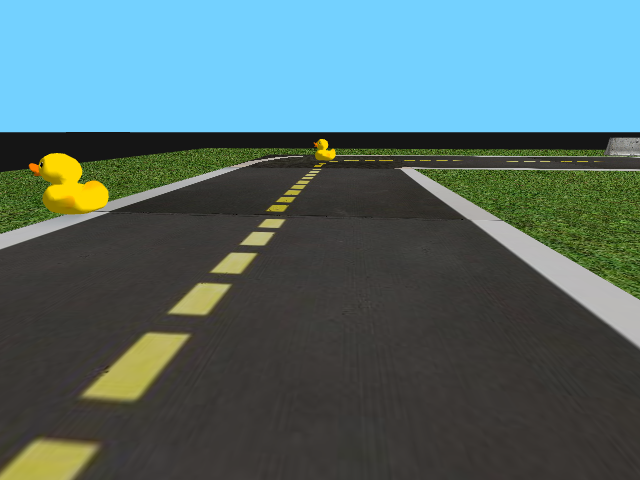Duckie: (28, 152, 110, 215), (312, 136, 337, 160)
